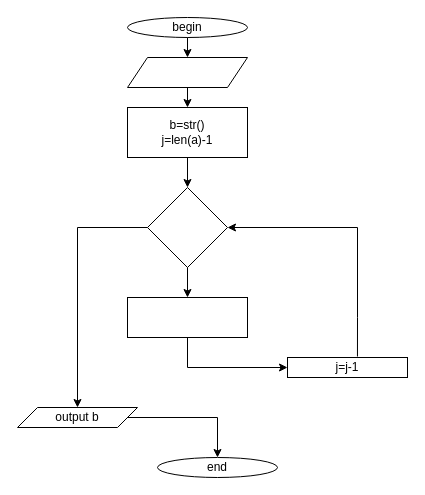
Some shapes in this 425 by 495 pixel diagram are drawn without their labels. Here are the shapes that lost their labels. From the top down, the centre of each, then its label:
At pixel 187 72: "input a".
At pixel 187 227: "j>-1".
At pixel 187 317: "b=b+a(j)".
